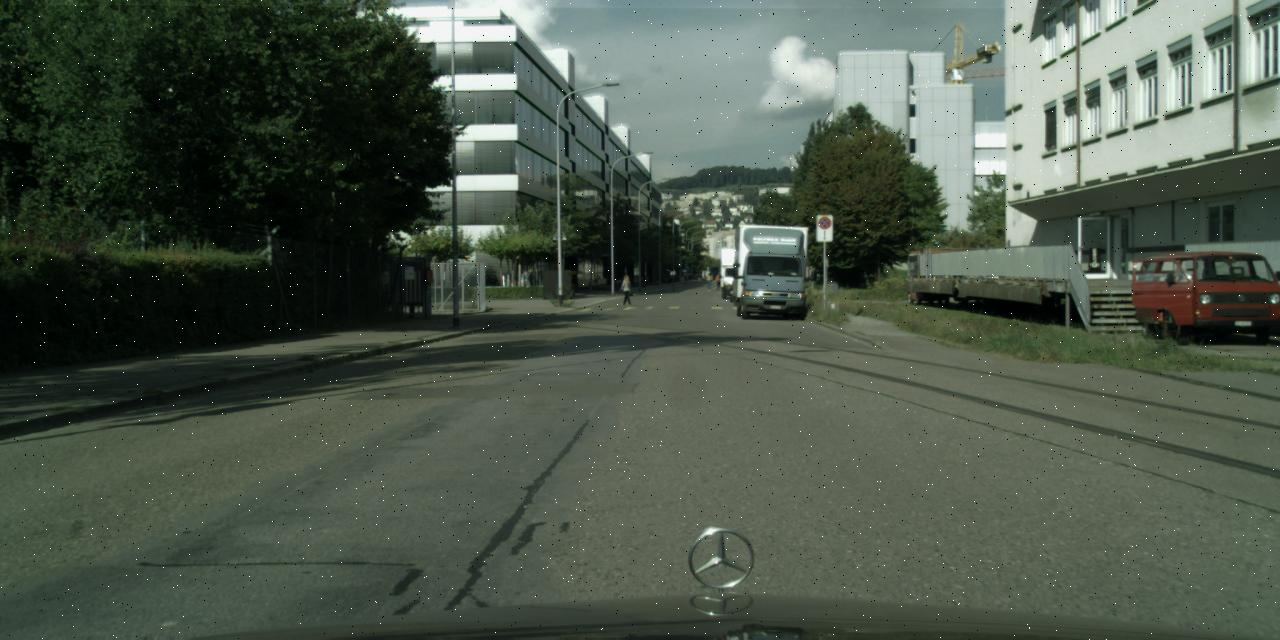ped: (620, 275, 632, 304), (706, 273, 712, 290), (714, 273, 720, 289)
